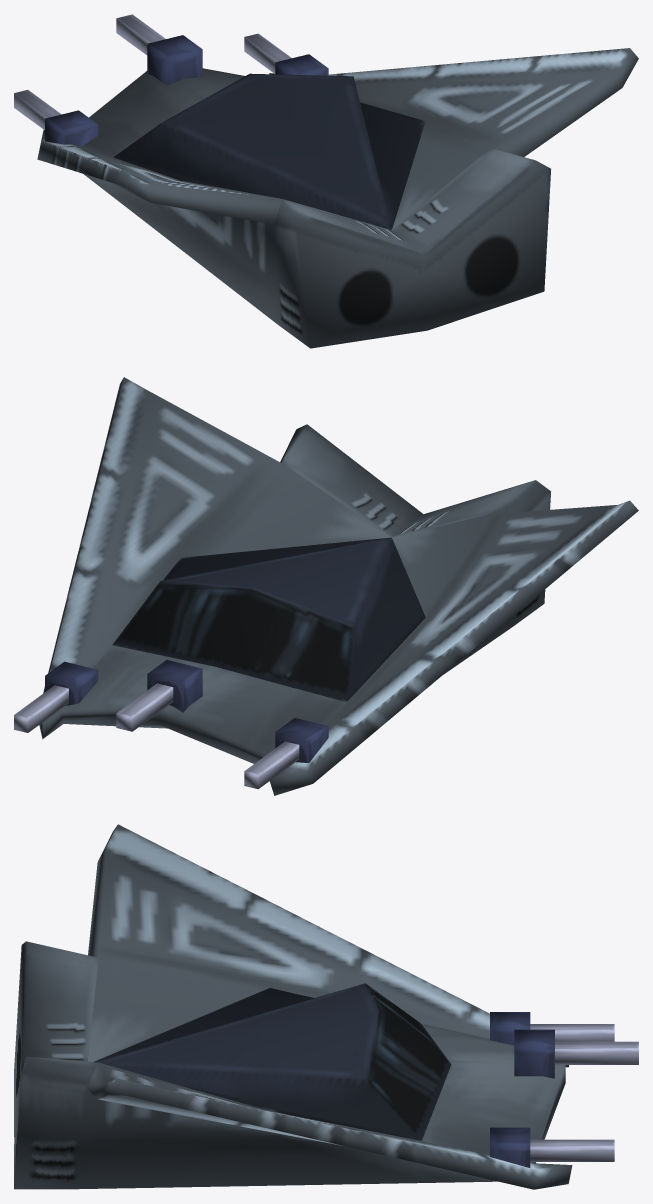
Rendered from Spaceship.fbx.
3 views of the same model, one above another, from view 1: azimuth 30°, elevation 25°; view 2: azimuth 150°, elevation 25°; view 3: azimuth 270°, elevation 25° (orthographic). The views are drawn at different scales.
Parts seen in each view (by area): view 1: Cube; view 2: Cube; view 3: Cube.
Boxes of the visible parts, x1,y1,x2,y2 form: Cube: [14, 14, 638, 348]; Cube: [14, 377, 638, 795]; Cube: [14, 824, 638, 1189].
Bounding box in the file's own units: 288 × 97.55 × 291.
